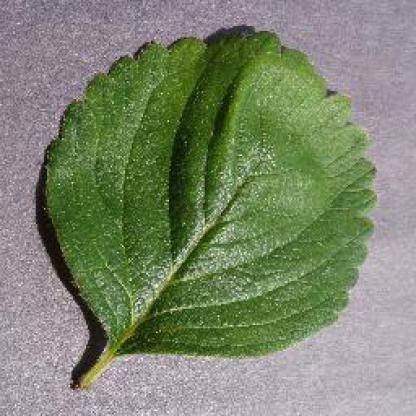healthy: (37, 19, 400, 404)
